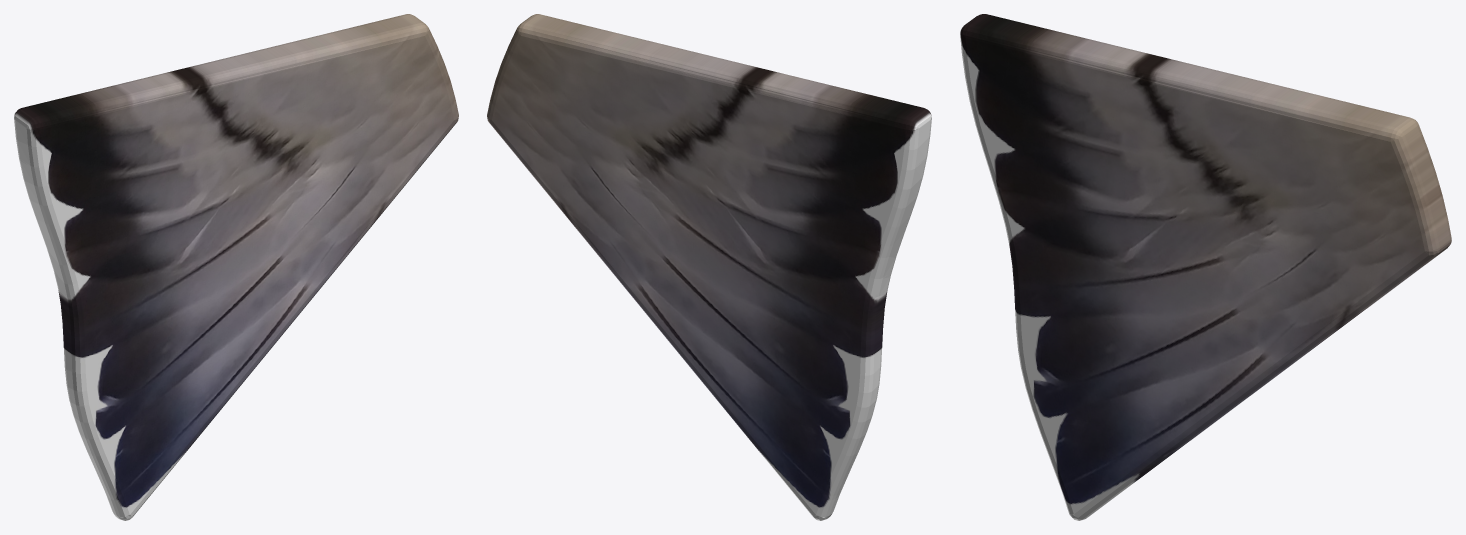
File: left_mid_wing_texture.dae
3 renders of one model, left to right at view 1: azimuth 30°, elevation 25°; view 2: azimuth 150°, elevation 25°; view 3: azimuth 330°, elevation 25°, orthographic. The views are drawn at different scales.
Parts seen in each view (by area): view 1: SketchUp; view 2: SketchUp; view 3: SketchUp.
Part boxes in pixels (bbox=[...]): SketchUp: bbox=[14, 14, 458, 520]; SketchUp: bbox=[487, 14, 931, 520]; SketchUp: bbox=[960, 14, 1451, 520].
Size of the model in its own units: 5.95 by 0.5086 by 5.65.
1 material, 1 textured.
